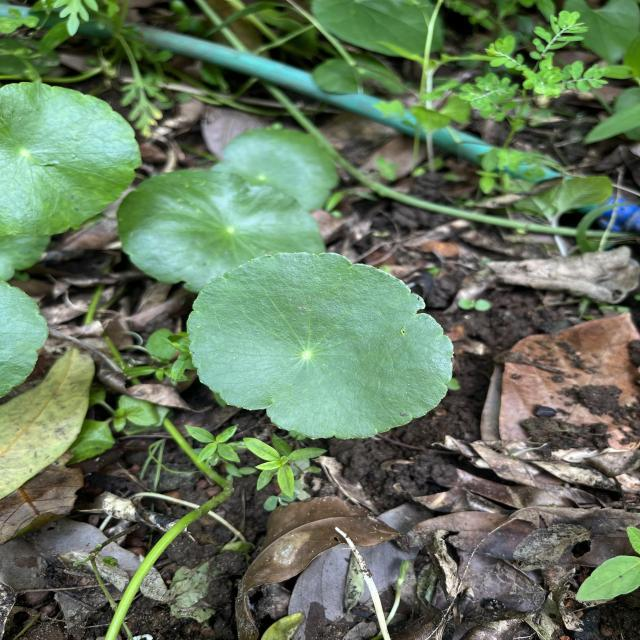Bacopa monnieri: (184, 250, 456, 442), (115, 166, 329, 294), (0, 80, 144, 238)
